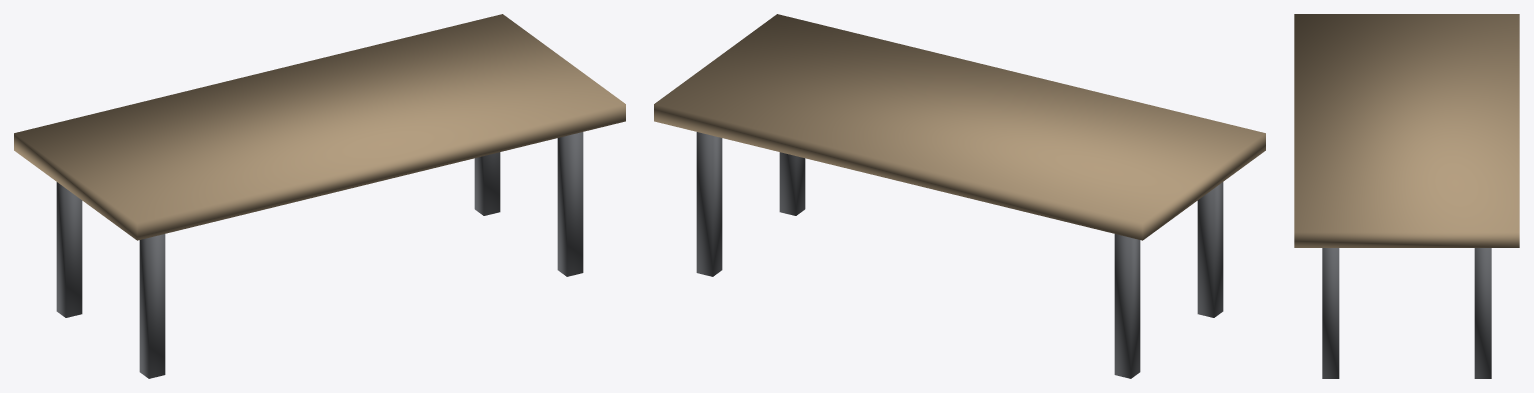
File: library_reading_table__squat.glb
3 renders of one model, left to right at view 1: azimuth 30°, elevation 25°; view 2: azimuth 150°, elevation 25°; view 3: azimuth 270°, elevation 25°, orthographic. The views are drawn at different scales.
Parts seen in each view (by area): view 1: world; view 2: world; view 3: world.
Boxes of the visible parts, box(x1,y1,x2,y2) form: world: box(14, 14, 625, 378); world: box(654, 14, 1265, 378); world: box(1294, 14, 1519, 378).
Bounding box in the file's own units: 1.98 × 0.672 × 0.864.
